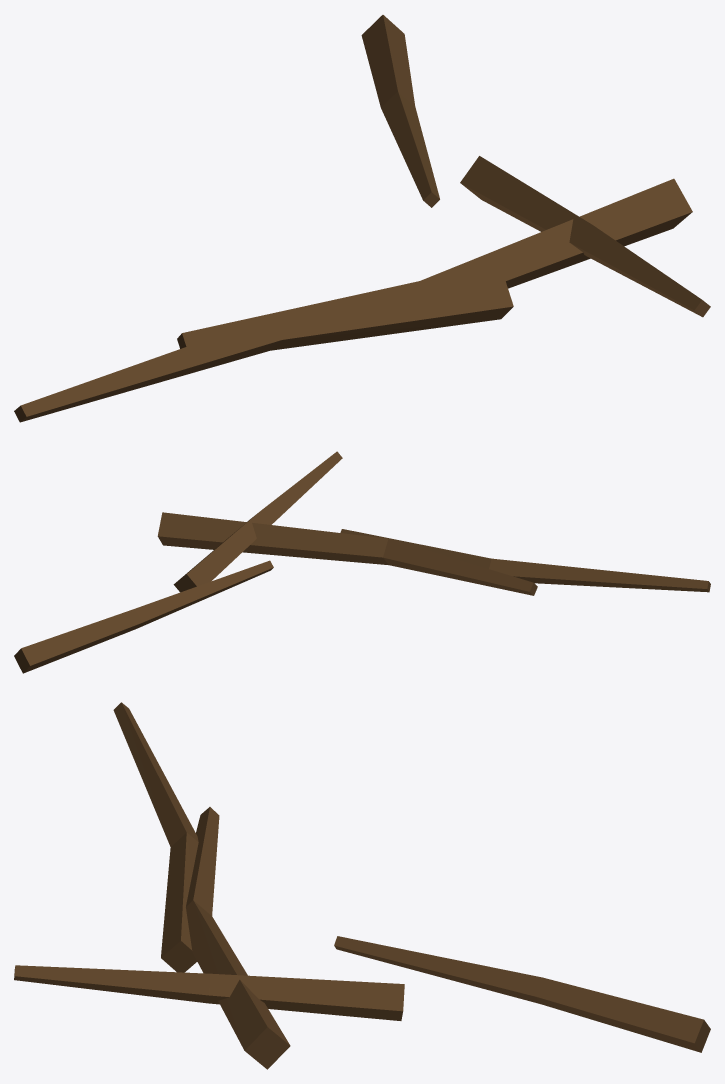
The model's file is HS_LP_Ground_Twigs_02.fbx.
3 renders of one model, top to bottom at view 1: azimuth 30°, elevation 25°; view 2: azimuth 150°, elevation 25°; view 3: azimuth 270°, elevation 25°, orthographic. The views are drawn at different scales.
Parts seen in each view (by area): view 1: HS_LP_Ground_Twigs_02; view 2: HS_LP_Ground_Twigs_02; view 3: HS_LP_Ground_Twigs_02.
Boxes of the visible parts, <box> form: HS_LP_Ground_Twigs_02: <box>14,15,710,422</box>; HS_LP_Ground_Twigs_02: <box>14,451,710,673</box>; HS_LP_Ground_Twigs_02: <box>14,702,710,1069</box>.
Bounding box in the file's own units: 62.62 × 5.19 × 58.52.
